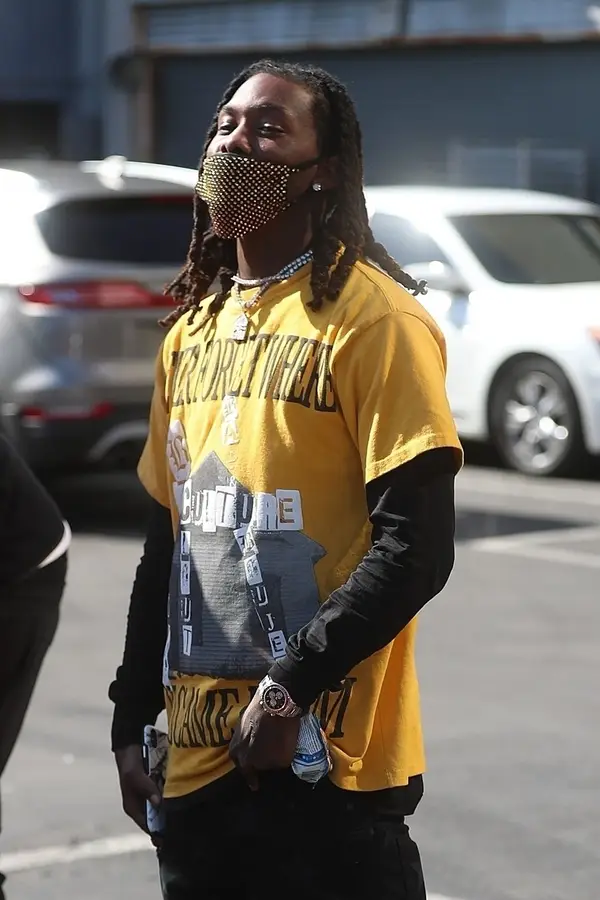mask_weared_incorrect: (189, 65, 345, 273)
